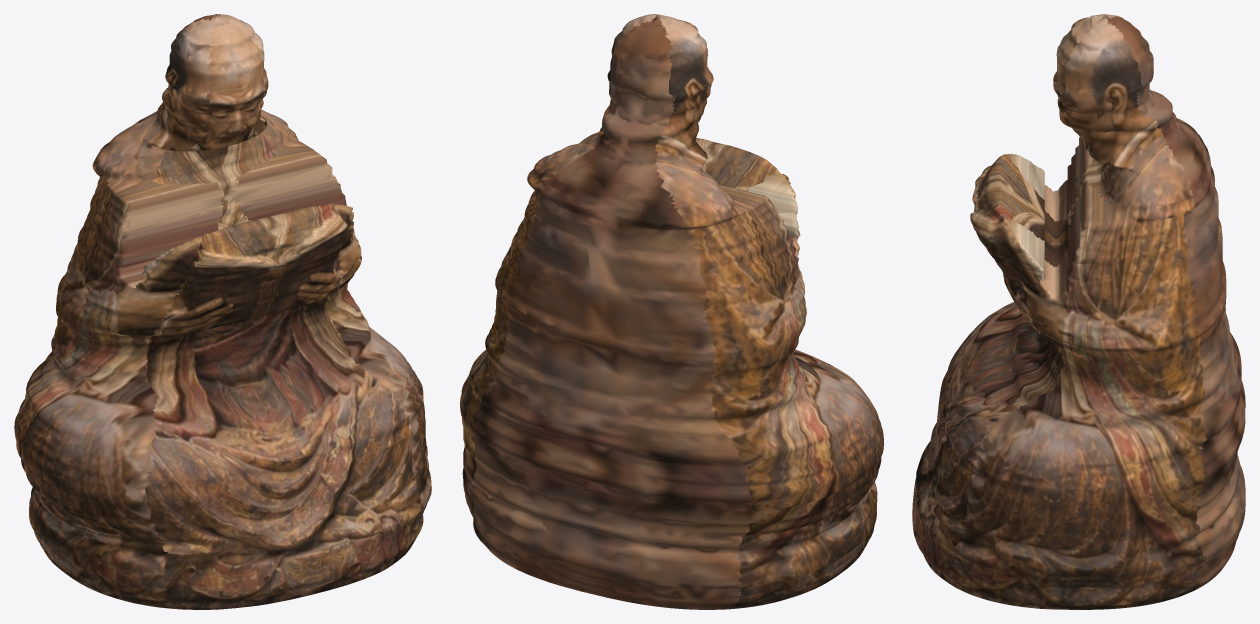
File: daoxin.glb
3 views of the same model, side by side, from view 1: azimuth 30°, elevation 25°; view 2: azimuth 150°, elevation 25°; view 3: azimuth 270°, elevation 25° (orthographic). The views are drawn at different scales.
Visible parts, largest first — view 1: daoxin; view 2: daoxin; view 3: daoxin.
Part boxes in pixels (box(x1,y1,x2,y2)): daoxin: box(14, 14, 431, 609); daoxin: box(460, 14, 883, 609); daoxin: box(912, 14, 1245, 609).
Bounding box in the file's own units: 0.7431 × 1.01 × 0.5877.
Materials: 1 (1 with a texture image).
